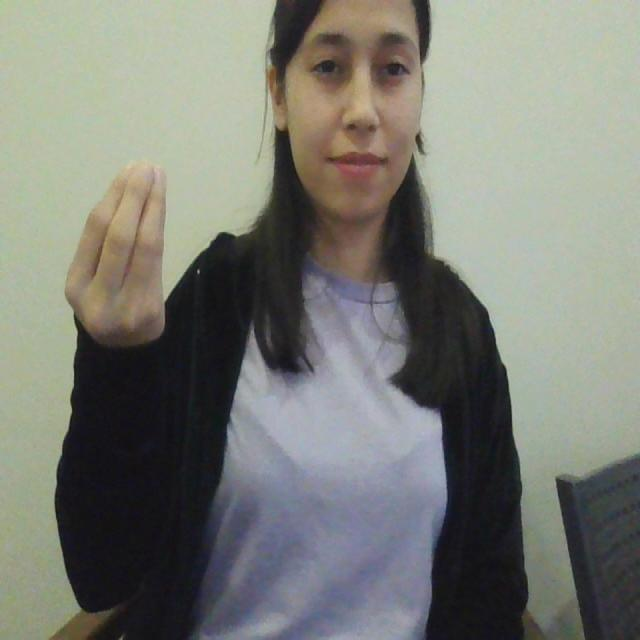iyi: (62, 150, 176, 344)
